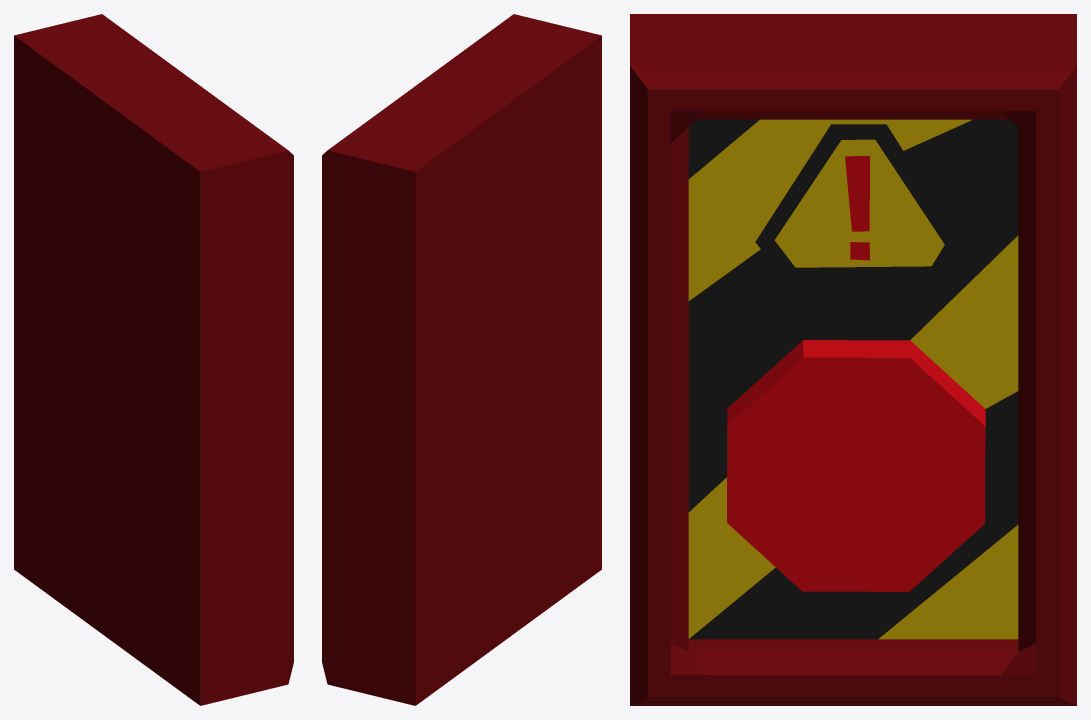
Rendered from controlButton.fbx.
The picture shows the model from 3 angles, left to right: view 1: azimuth 30°, elevation 25°; view 2: azimuth 150°, elevation 25°; view 3: azimuth 270°, elevation 25°; orthographic projection. The views are drawn at different scales.
Parts seen in each view (by area): view 1: Cylinder; view 2: Cylinder; view 3: Cylinder.
Boxes of the visible parts, left/top/right/bottom form: Cylinder: left=14, top=14, right=293, bottom=705; Cylinder: left=322, top=14, right=601, bottom=705; Cylinder: left=630, top=14, right=1076, bottom=705.
Bounding box in the file's own units: 10.74 × 54.3 × 34.34.
